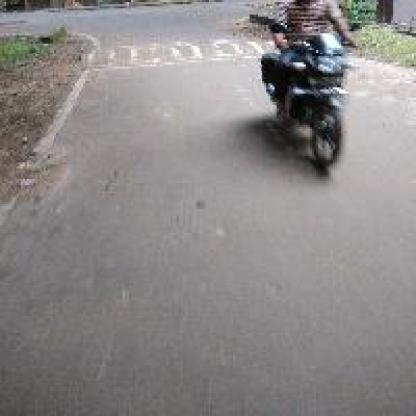Speed Bump: (87, 40, 268, 72)
